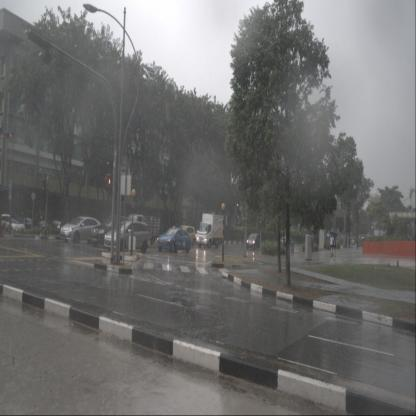human-pedestrian-adult: (330, 232, 337, 258), (332, 235, 336, 257)
vehicle-car: (104, 221, 150, 253), (91, 217, 131, 246), (60, 217, 104, 243), (157, 228, 191, 254), (0, 213, 26, 234), (175, 225, 196, 246), (18, 218, 38, 234), (35, 220, 57, 234), (247, 233, 262, 249)
vehicle-truck: (127, 214, 160, 244), (196, 213, 224, 248)
